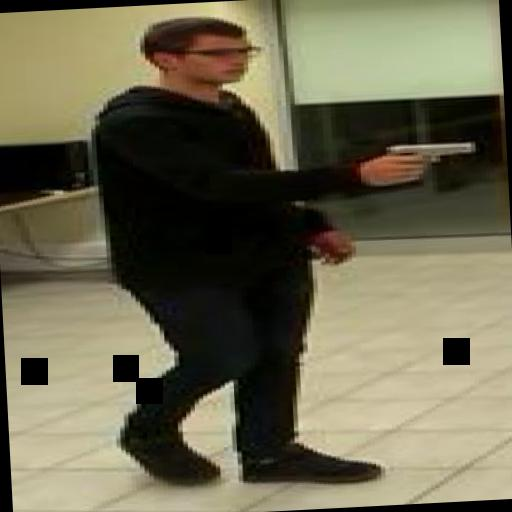Handgun: (372, 134, 477, 182)
